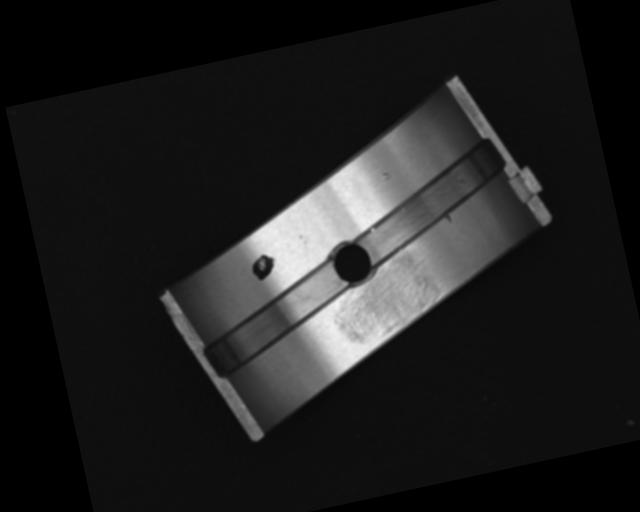blot: (248, 252, 279, 283)
bruise: (441, 209, 454, 225), (380, 170, 391, 182)
gap: (335, 135, 515, 274), (190, 252, 366, 390)
hole: (324, 232, 382, 292)
scratch: (319, 242, 448, 351)
